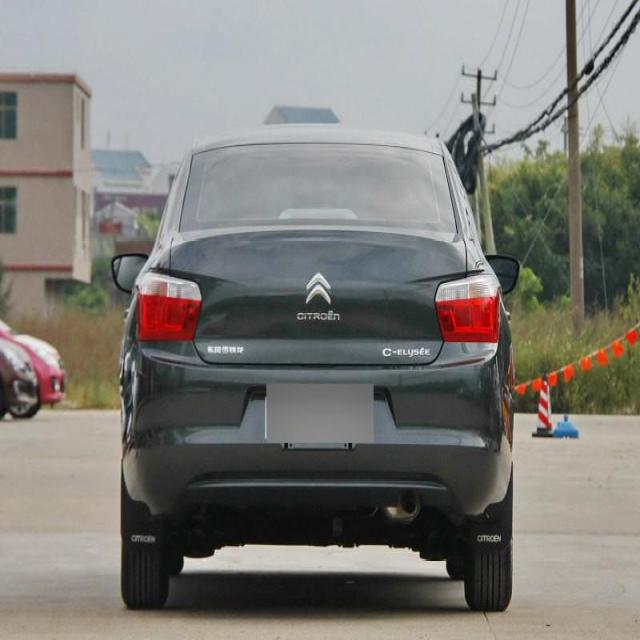back_glass: (178, 143, 456, 233)
back_left_side_light: (134, 265, 204, 349)
back_right_side_light: (438, 268, 502, 345)
front_left_side_mirror: (110, 249, 147, 296)
front_right_side_mirror: (486, 250, 524, 297)
rear_bumper: (122, 338, 513, 520)
wheel: (464, 523, 511, 609), (119, 525, 166, 609)
